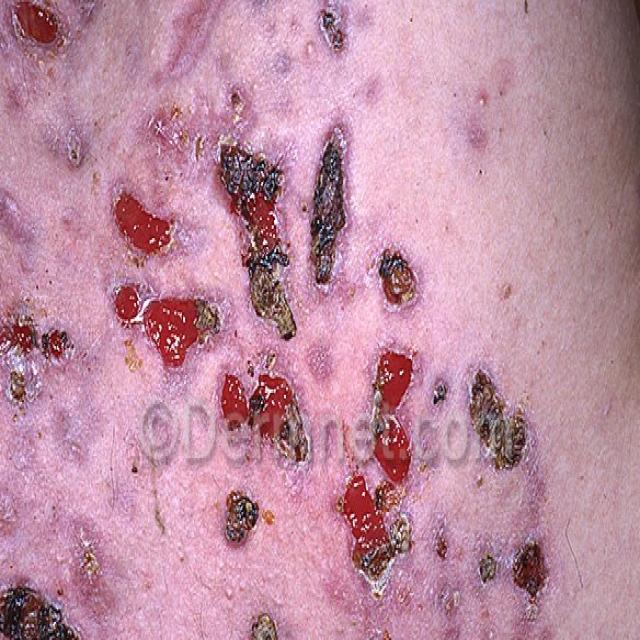Acne: (108, 93, 570, 640), (0, 4, 105, 267), (0, 281, 92, 465), (0, 514, 102, 640), (303, 0, 372, 65), (627, 199, 640, 316)
